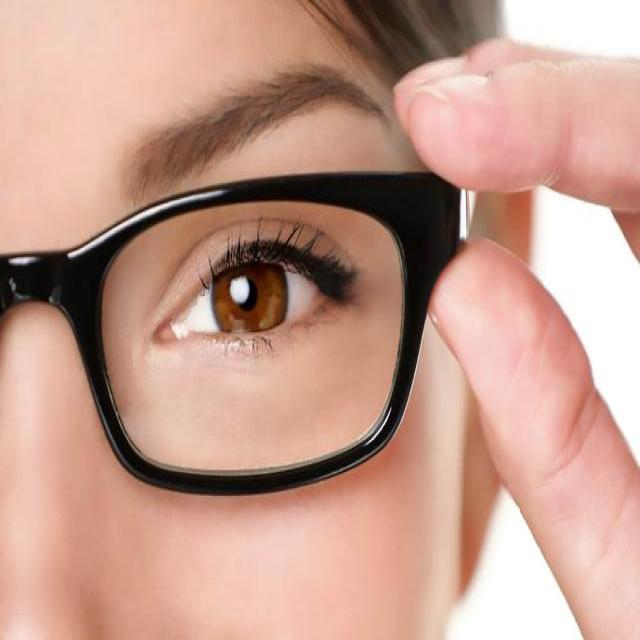glasses: (1, 174, 466, 499)
